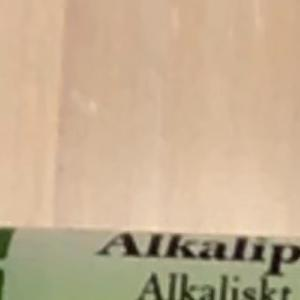keyword: (87, 224, 173, 267)
